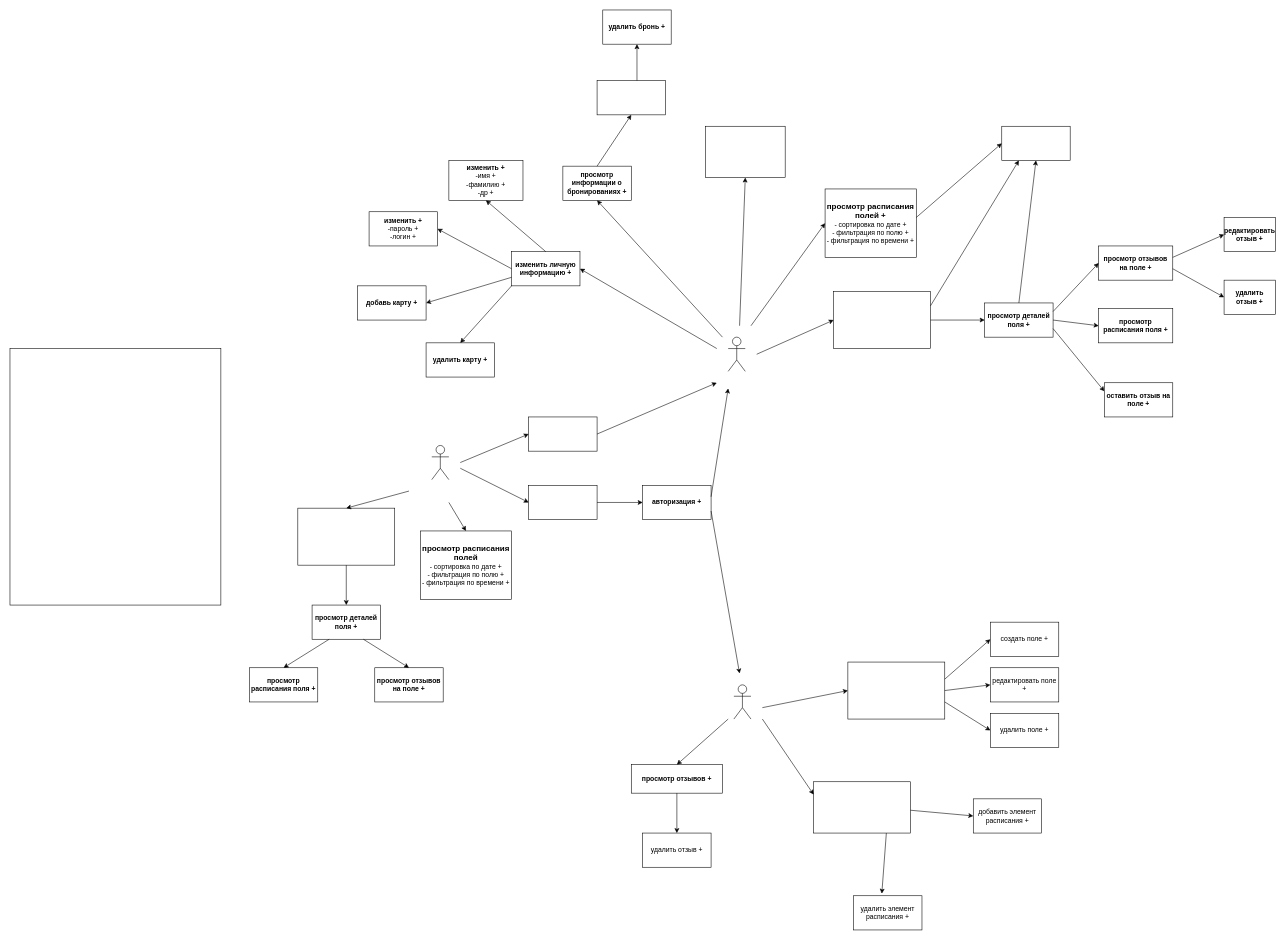
This 1285x940 diagram has some shape labels left out. Here are the shapes that lost their labels. From the top down, the centre of each, then its label:
the point at 631,97: просмотр деталей брони +
the point at 745,152: просмотр клубных карт + - сортировка по времени на карте +
the point at 1035,143: бронировать поле +
the point at 882,320: просмотр полей + - сортировка по рейтингу+ - поиск по названию +
the point at 736,354: Клиент
the point at 562,433: регистрация +
the point at 115,476: Пример процедуры : client.py
the point at 440,462: не авторизованный пользователь
the point at 562,502: аутентификация +
the point at 346,536: просмотр полей + - поиск по названию + - поиск по цене +
the point at 742,701: Админ
the point at 896,690: просмотр полей +
the point at 862,807: просмотр расписания полей +
